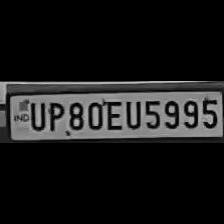0: (84, 98, 104, 130)
5: (141, 96, 161, 130), (199, 95, 219, 129)
8: (64, 98, 84, 132)
9: (160, 96, 180, 130), (180, 96, 198, 130)
E: (102, 98, 122, 130)
P: (44, 98, 64, 132)
U: (26, 98, 46, 132), (122, 97, 142, 129)
